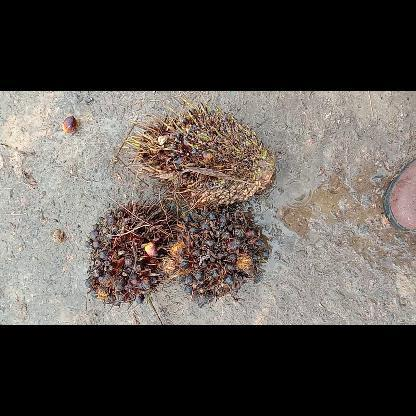TBS abnormal: (123, 97, 273, 211), (84, 198, 178, 304), (160, 206, 268, 298)
